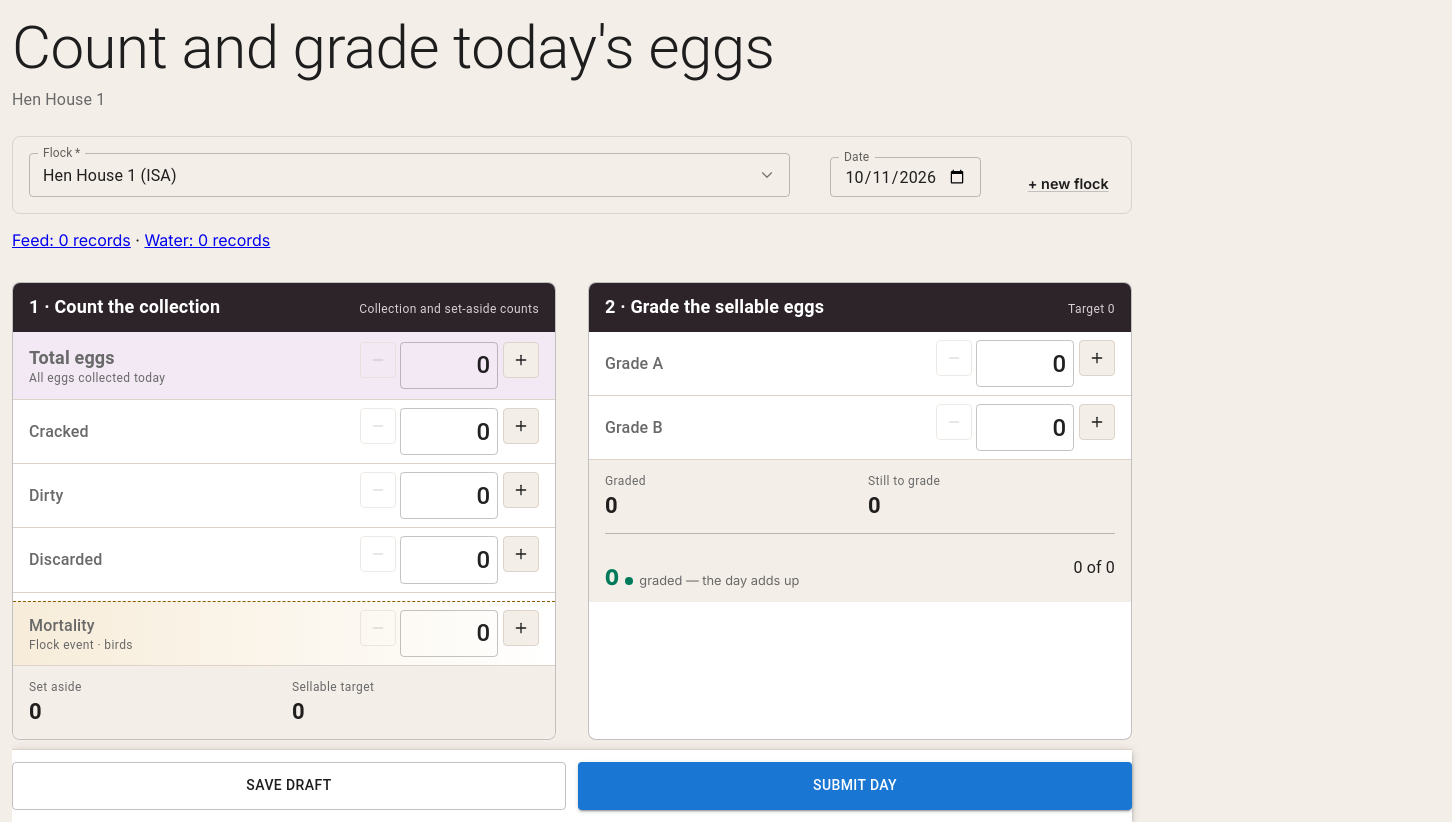
DailyEntryPage assign the remainder › hands the whole remainder to the grade that is picked
Expected: the number field labelled "Grade A" is shown, [976, 340, 1074, 387]
Expected: the button "Save draft" is enabled, [12, 762, 566, 810]
Replace the text in the number field labelled "Total eggs" with "100" at (449, 365), box [400, 342, 498, 389]
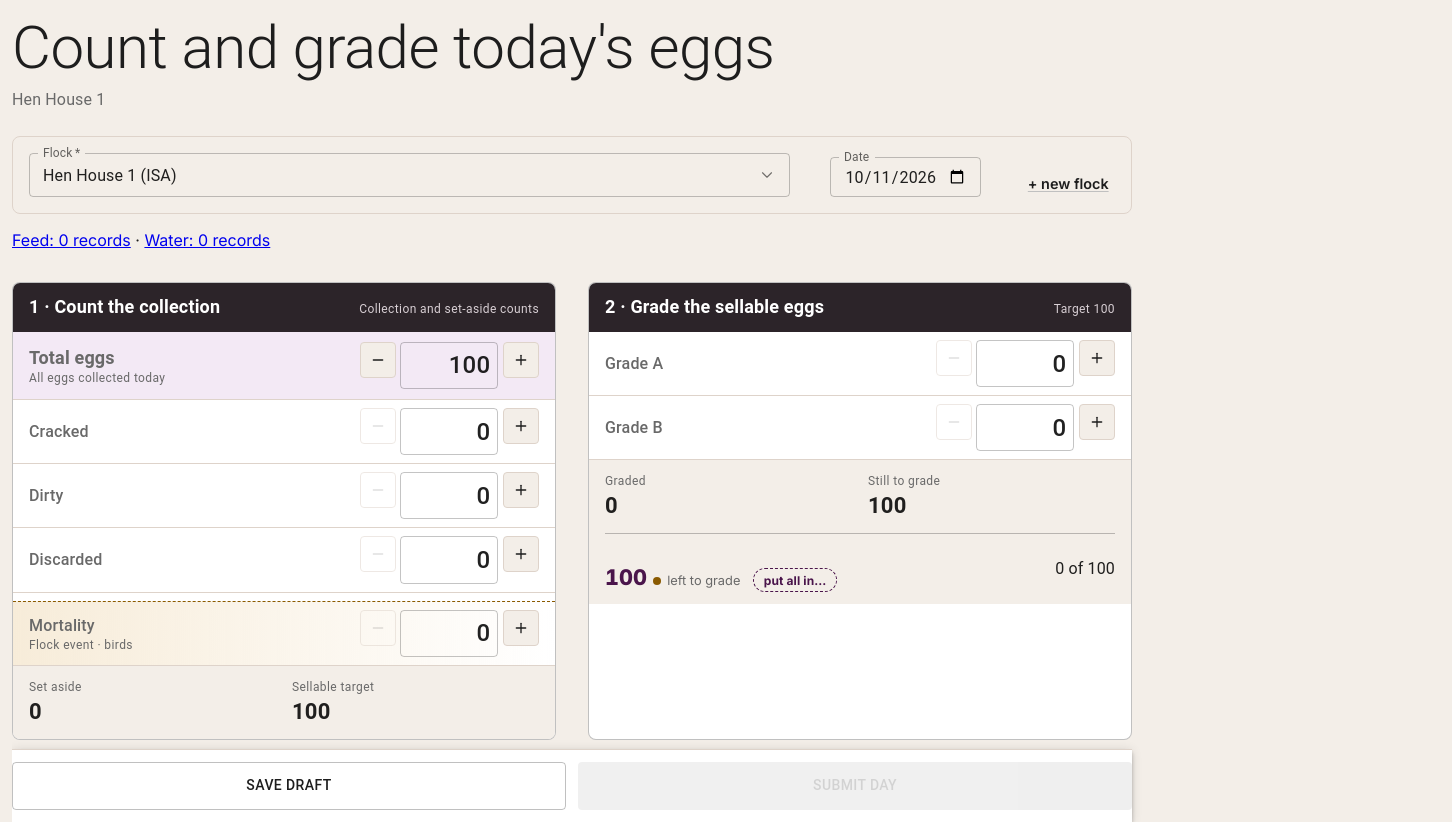
Replace the text in the number field labelled "Cracked" with "10" at (449, 432), box [400, 408, 498, 455]
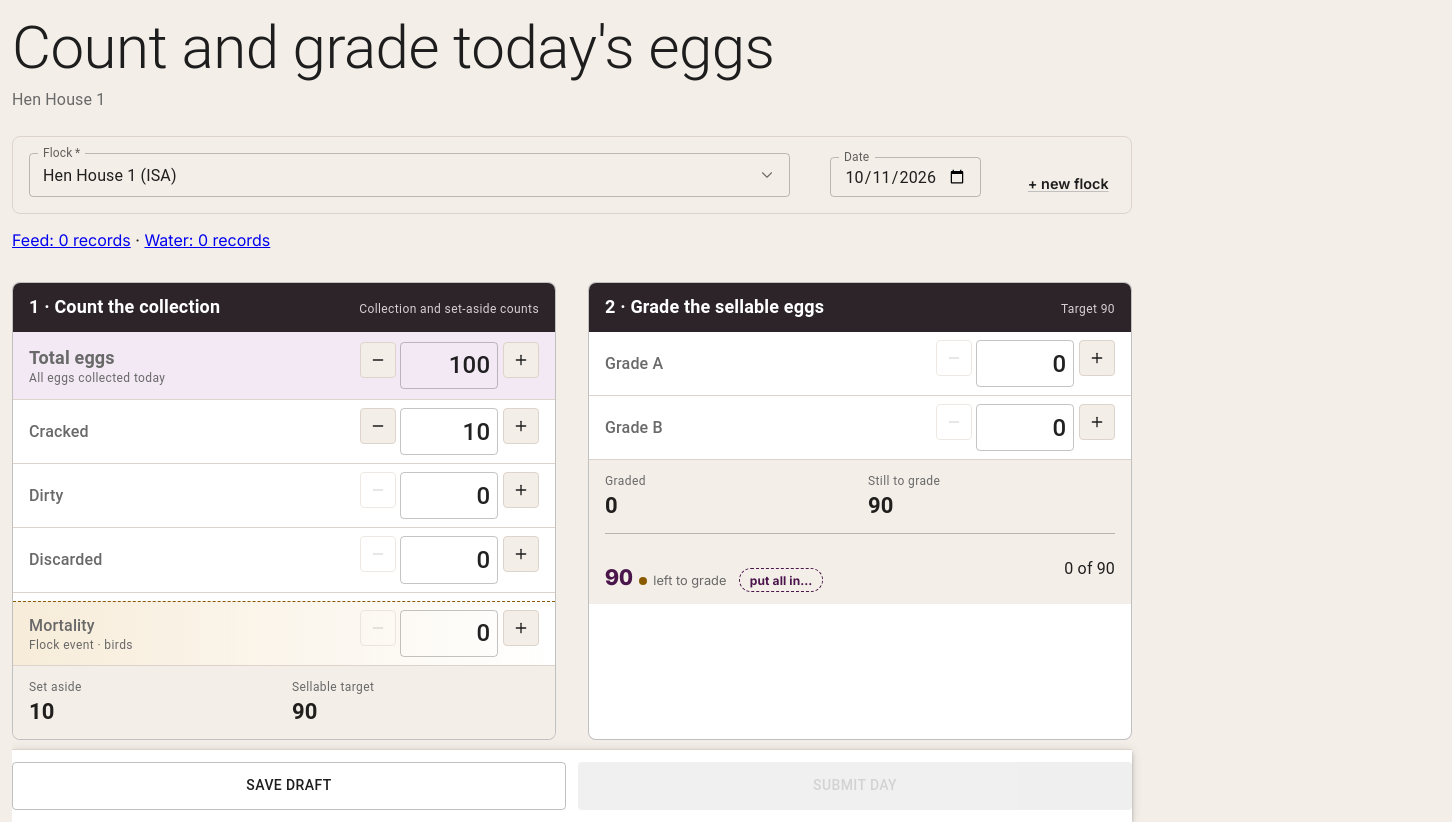
Replace the text in the number field labelled "Grade A" with "30" at (1025, 364), box [976, 340, 1074, 387]
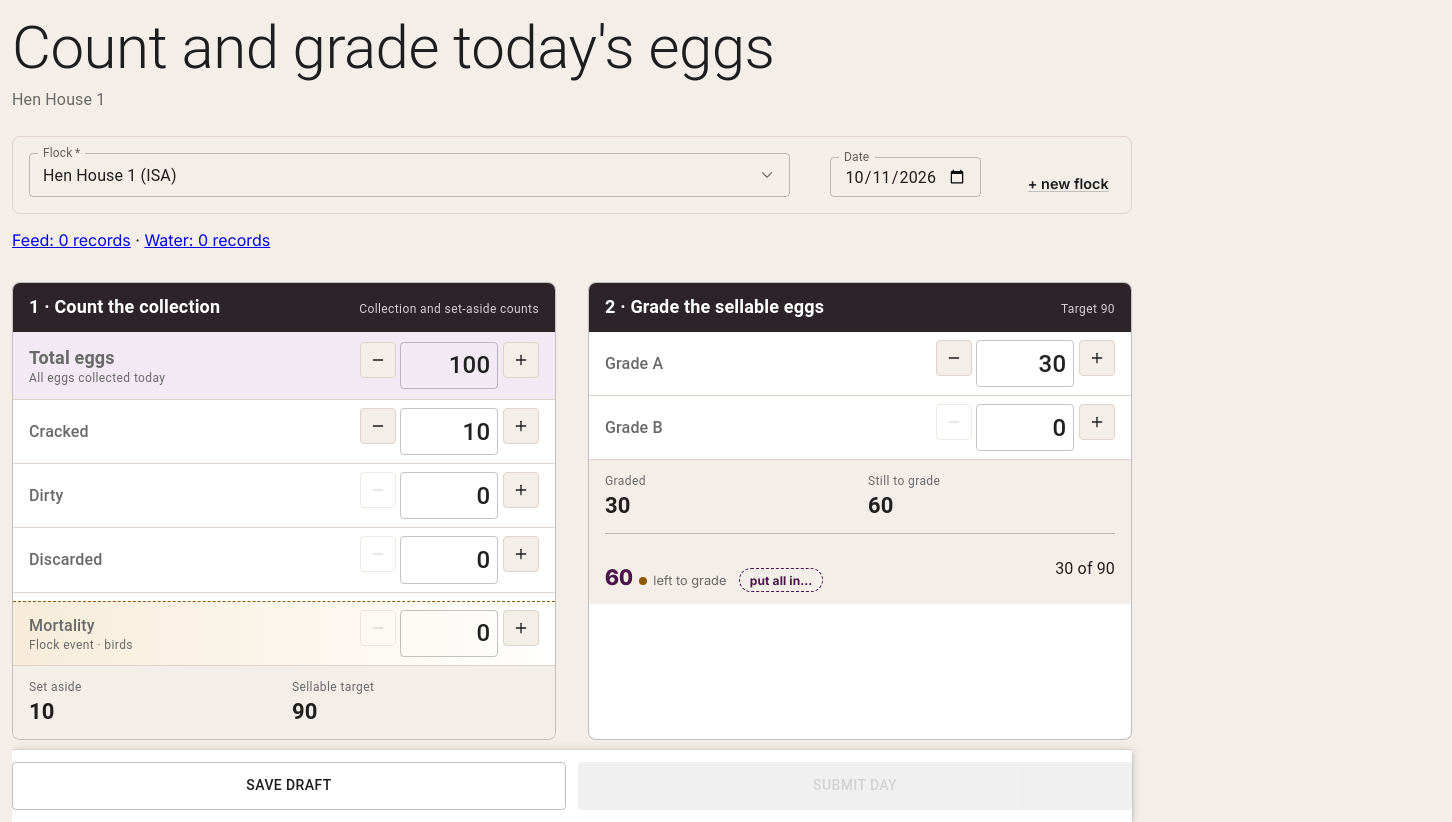
Expected: the element with class "entry-chip" shows "60 left to grade", [605, 564, 823, 592]
Click the button with aria-label "Choose a grade for the remaining" at (781, 580), box [739, 568, 823, 592]
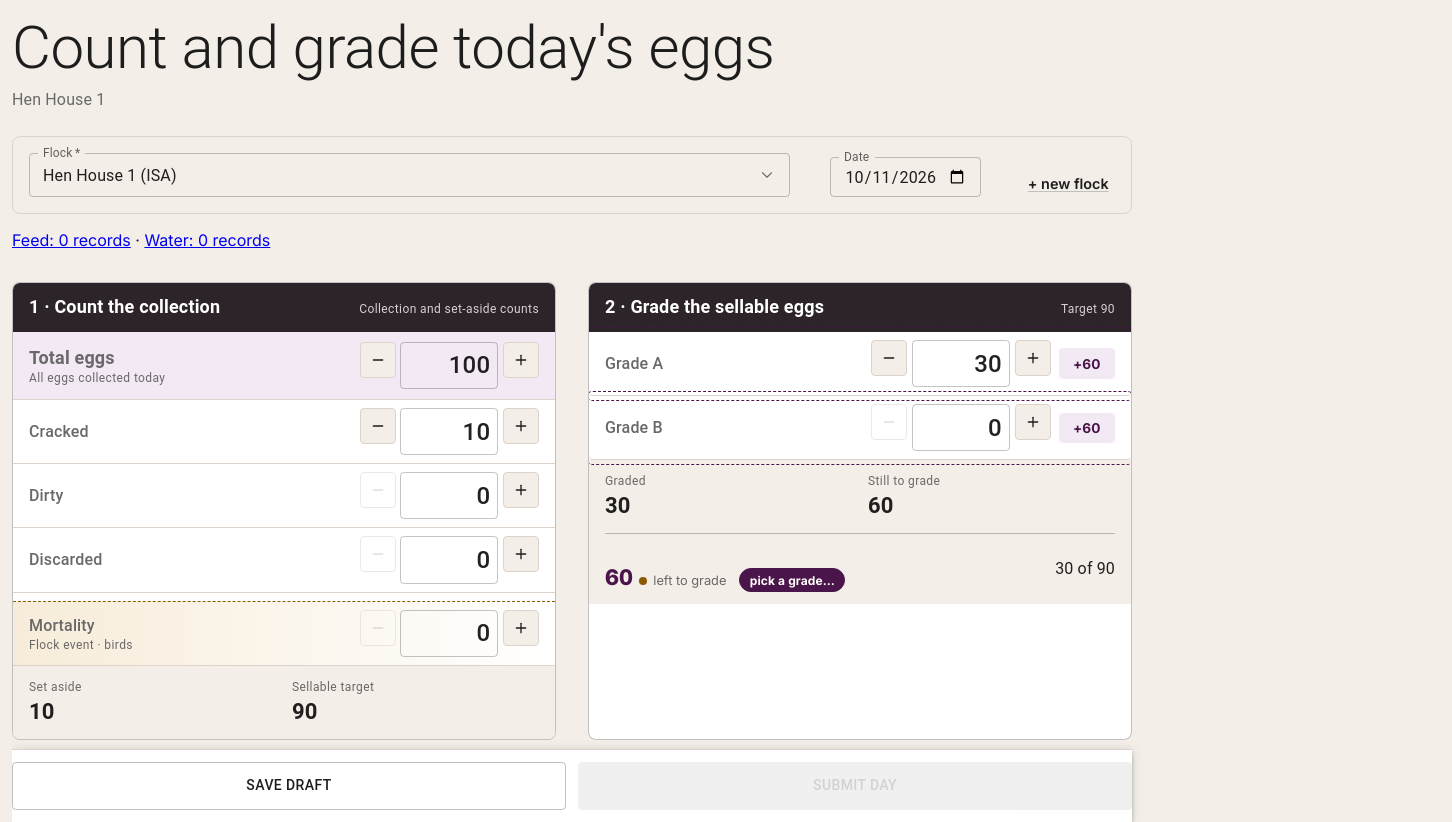
Click the button named "Put all 60 remaining in Grade B" at (1087, 428), box [1059, 413, 1115, 443]
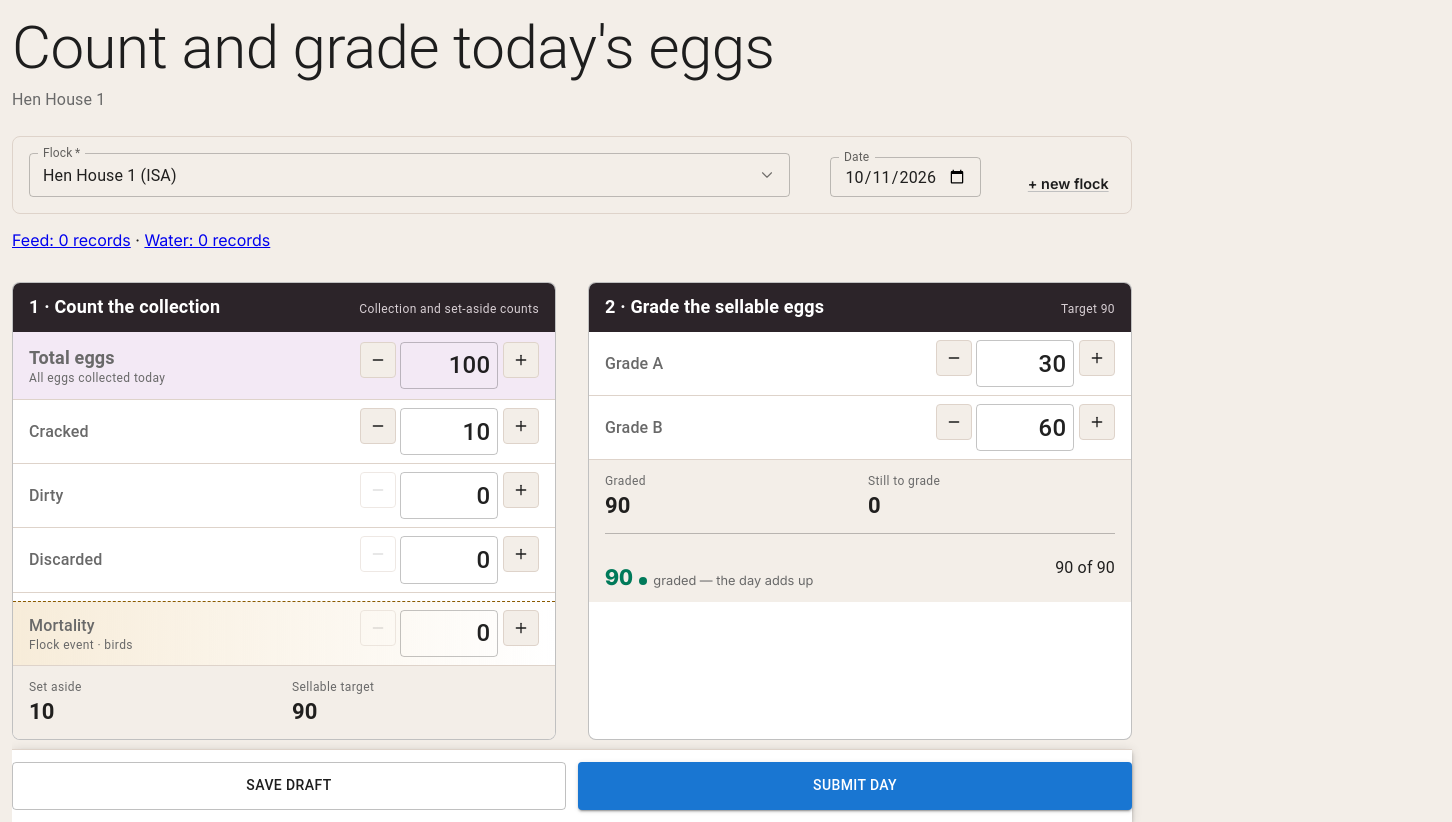
Expected: the number field labelled "Grade B" holds "60", [976, 404, 1074, 452]
